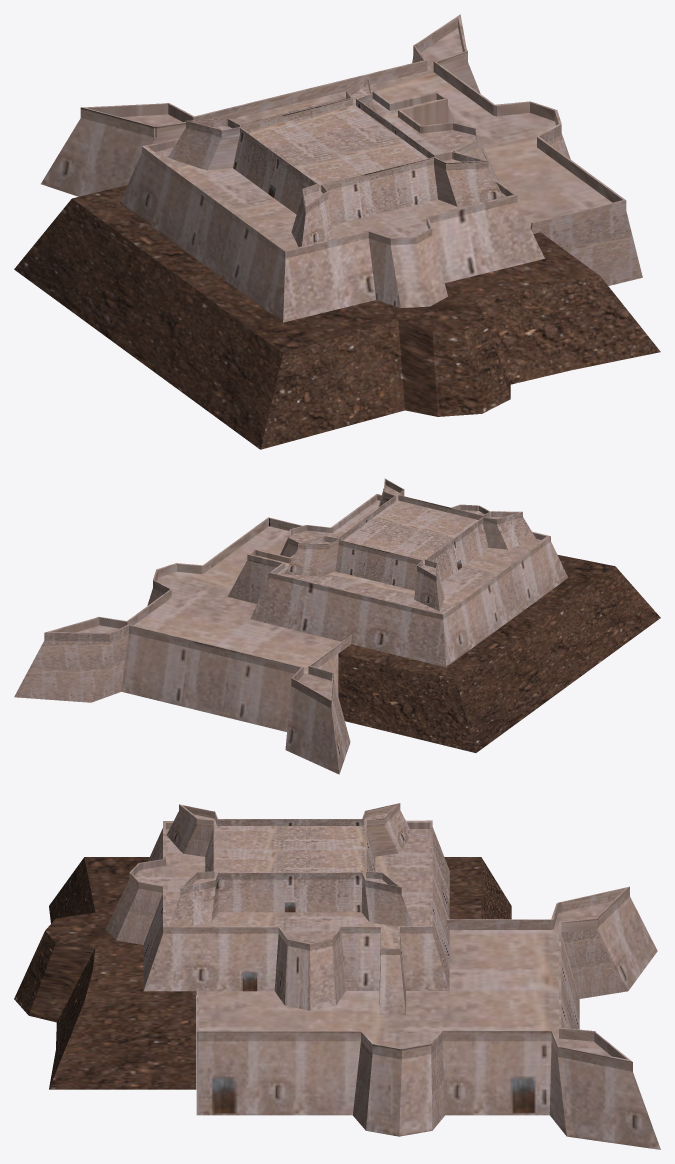
File: hotblue.fbx
The picture shows the model from 3 angles, top to bottom: view 1: azimuth 30°, elevation 25°; view 2: azimuth 150°, elevation 25°; view 3: azimuth 270°, elevation 25°; orthographic projection. The views are drawn at different scales.
Parts seen in each view (by area): view 1: deshia, pCube7, pCube4, pCube10; view 2: pCube4, deshia, pCube7, pCube10; view 3: pCube4, pCube7, deshia, pCube10.
Part boxes in pixels (bbox=[...]): deshia: bbox=[14, 185, 660, 449]; pCube7: bbox=[120, 90, 544, 322]; pCube4: bbox=[41, 14, 642, 285]; pCube10: bbox=[168, 76, 503, 246]; pCube4: bbox=[14, 517, 352, 774]; deshia: bbox=[338, 554, 660, 752]; pCube7: bbox=[227, 494, 568, 667]; pCube10: bbox=[284, 478, 536, 611]; pCube4: bbox=[196, 886, 660, 1149]; pCube7: bbox=[105, 820, 449, 1015]; deshia: bbox=[14, 857, 511, 1089]; pCube10: bbox=[166, 803, 412, 926].
Bounding box in the file's own units: 1566 × 459 × 1742.
Materials: 1 (1 with a texture image).
